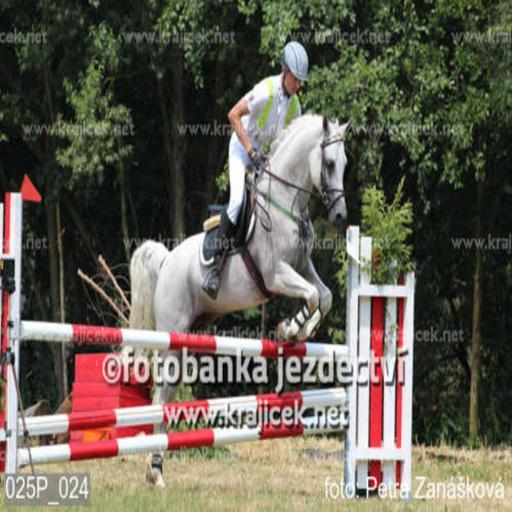horse: (122, 110, 354, 488)
